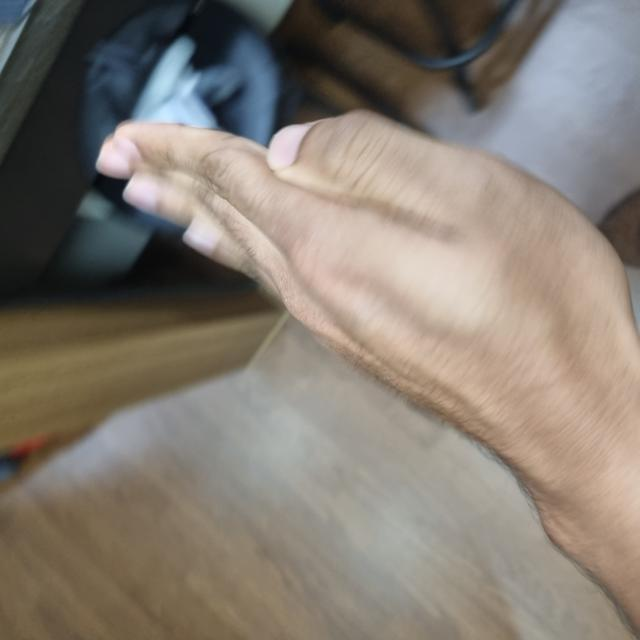Paper: (190, 104, 529, 633)
